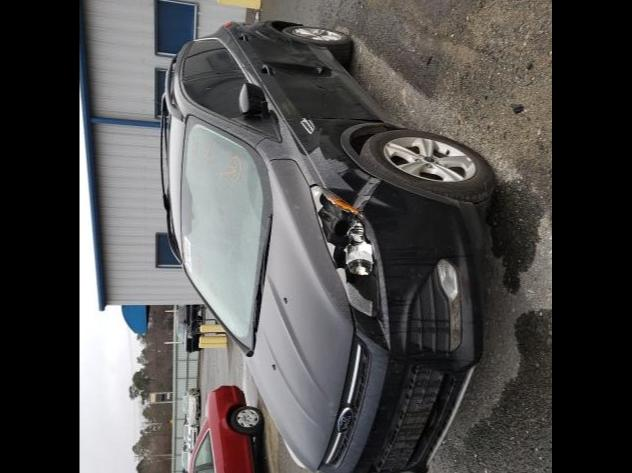Broken part: (310, 182, 382, 320), (350, 176, 384, 214)
Dent: (330, 160, 382, 212), (364, 192, 402, 218)
